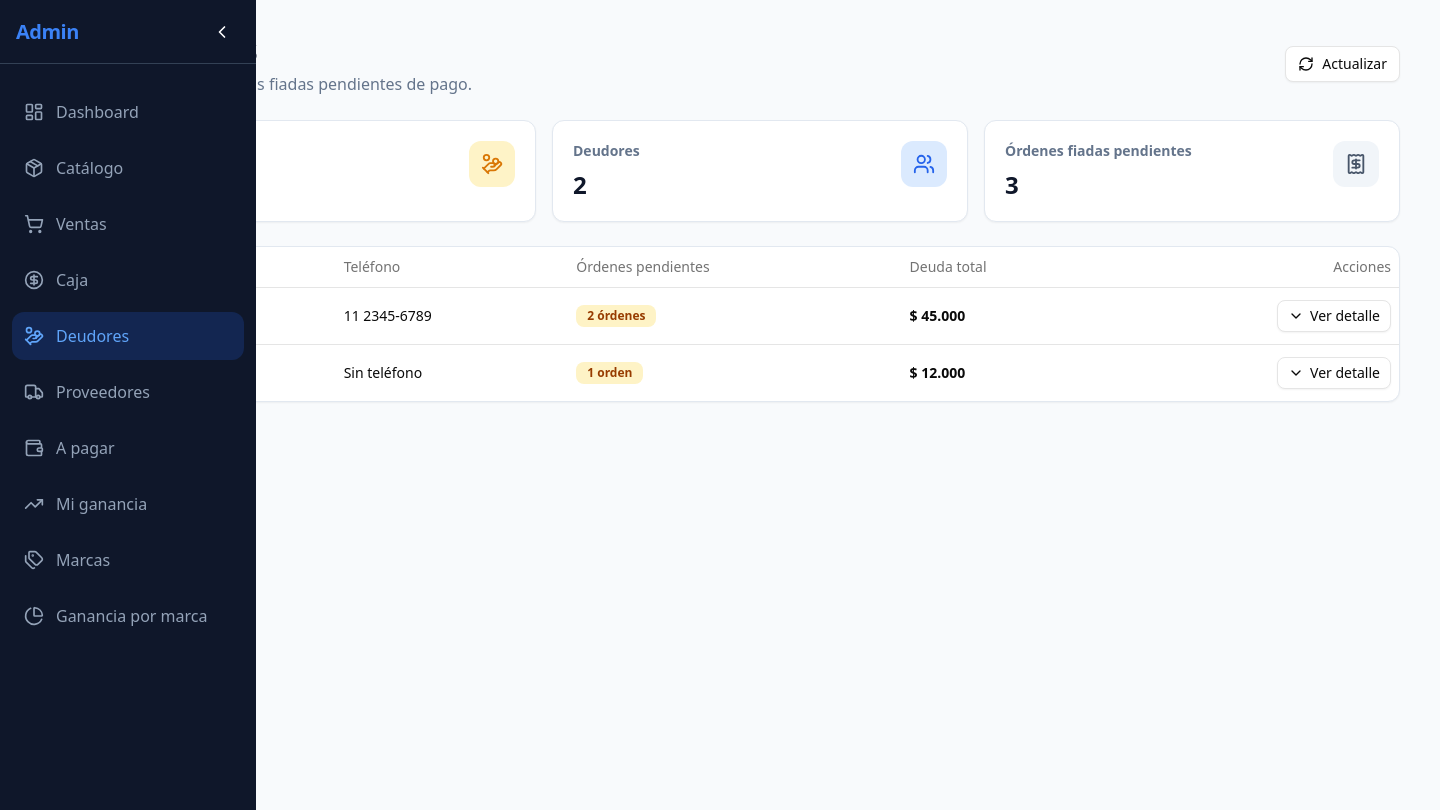
it: DebtorsPage — vista de tabla (desktop) › al expandir desde la tabla renderiza la tabla anidada de órdenes con sus 5 columnas
This screenshot has width=1440, height=810.
Click the button "Ver detalle" in the row of "María López".
click(1334, 316)  # box 1277,300 -> 1391,332
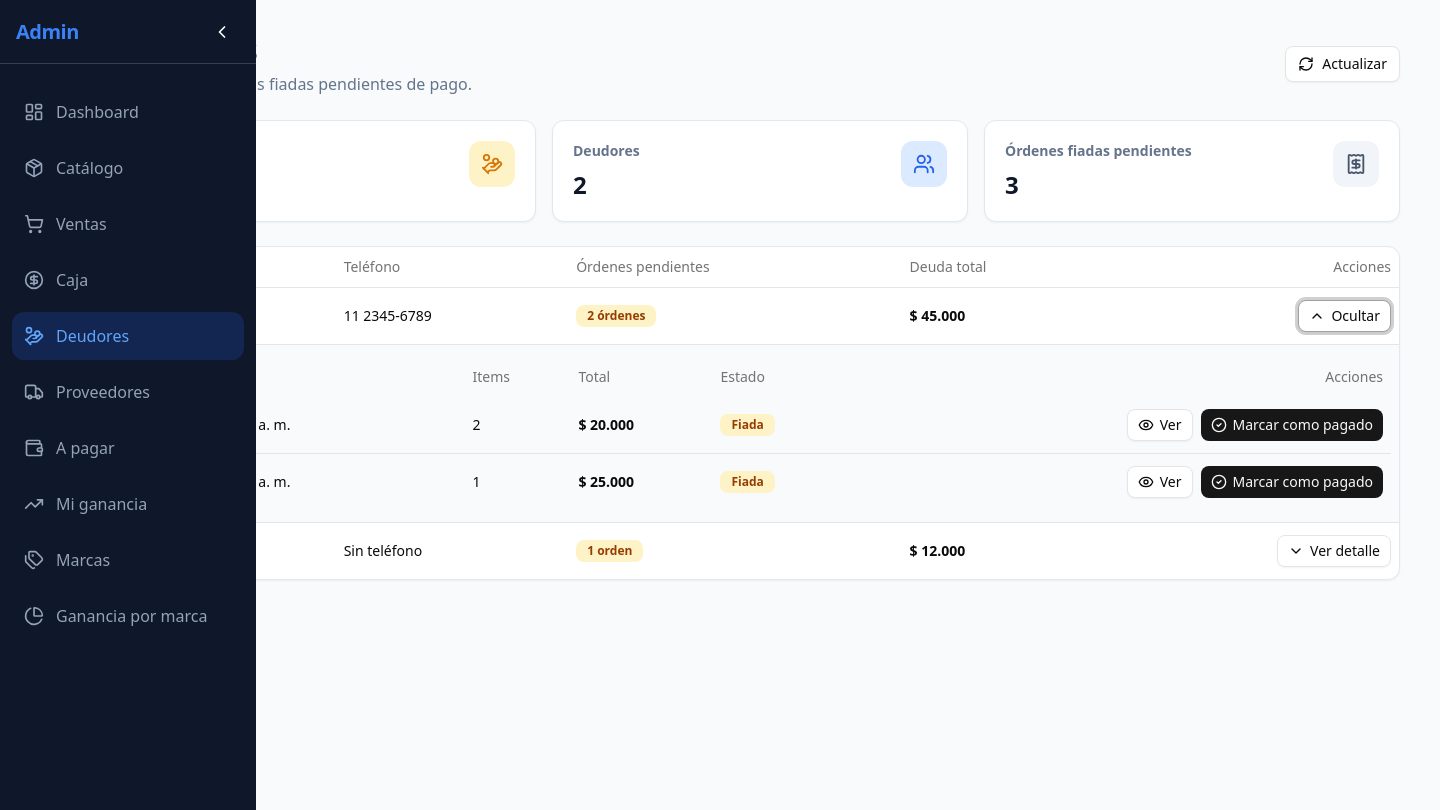
Expected: the table is shown, 129,356 -> 1391,510
Expected: the column headings read "Fecha", "Items", "Total", "Estado", "Acciones", in this order, 129,356 -> 464,396; 464,356 -> 570,396; 570,356 -> 712,396; 712,356 -> 852,396; 852,356 -> 1391,396
Expected: the text "2" is shown, 464,396 -> 570,453
